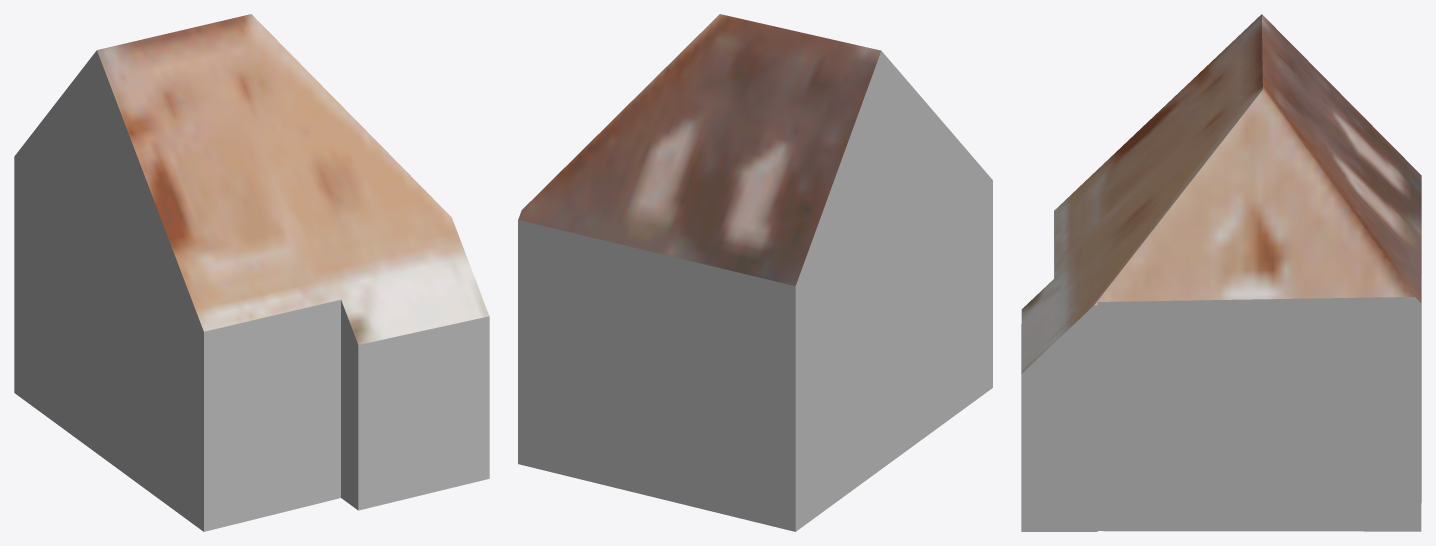
Rendered from DEBW_0010007Txeb.gltf.
The picture shows the model from 3 angles, left to right: view 1: azimuth 30°, elevation 25°; view 2: azimuth 150°, elevation 25°; view 3: azimuth 270°, elevation 25°; orthographic projection. The views are drawn at different scales.
Visible parts, largest first — view 1: Z_UP; view 2: Z_UP; view 3: Z_UP.
Boxes of the visible parts, x1,y1,x2,y2 form: Z_UP: (14,14,489,531); Z_UP: (518,14,992,531); Z_UP: (1021,14,1421,531).
Size of the model in its own units: 9.07 by 13.01 by 12.08.
Materials: 2 (1 with a texture image).
